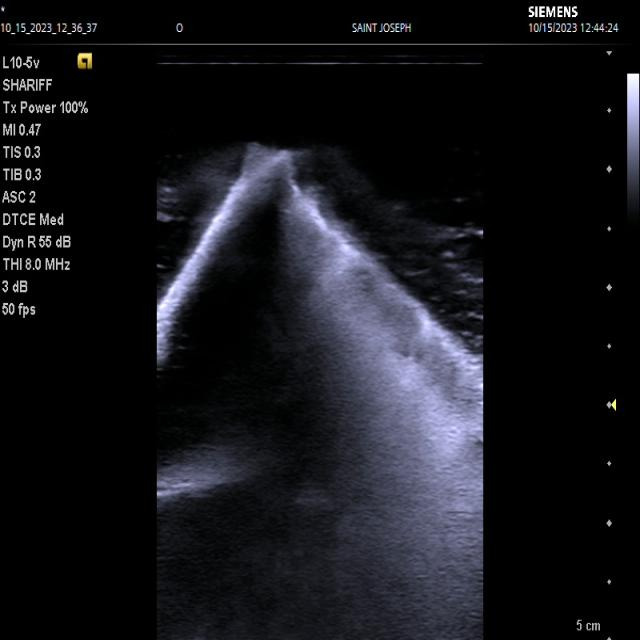tissue: (158, 147, 484, 640)
